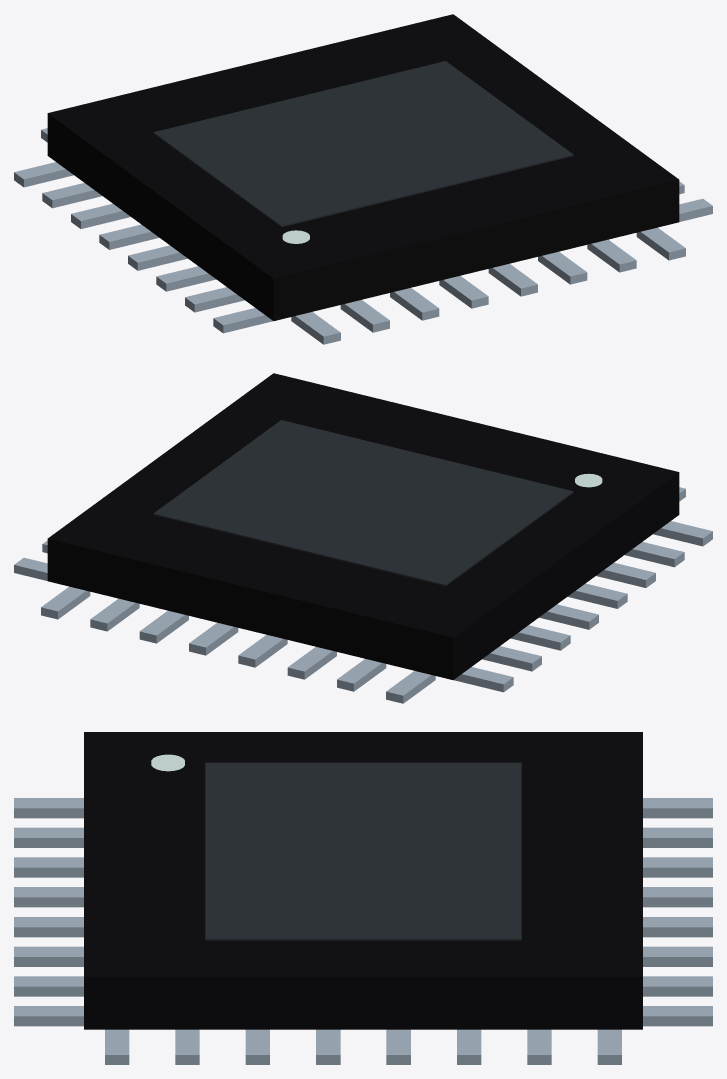
3 views of the same model, one above another, from view 1: azimuth 30°, elevation 25°; view 2: azimuth 150°, elevation 25°; view 3: azimuth 270°, elevation 25° (orthographic). The views are drawn at different scales.
Parts seen in each view (by area): view 1: U7_000_Molded_Encapsulation, U7_001_LaserMark_Panel, U7_022_QFP_Gullwing_Lead, U7_028_QFP_Gullwing_Lead, U7_030_QFP_Gullwing_Lead, U7_013_QFP_Gullwing_Lead, U7_018_QFP_Gullwing_Lead, U7_009_QFP_Gullwing_Lead, U7_017_QFP_Gullwing_Lead, U7_020_QFP_Gullwing_Lead, U7_024_QFP_Gullwing_Lead, U7_032_QFP_Gullwing_Lead (+7 smaller); view 2: U7_000_Molded_Encapsulation, U7_001_LaserMark_Panel, U7_006_QFP_Gullwing_Lead, U7_012_QFP_Gullwing_Lead, U7_014_QFP_Gullwing_Lead, U7_002_QFP_Gullwing_Lead, U7_007_QFP_Gullwing_Lead, U7_003_QFP_Gullwing_Lead, U7_004_QFP_Gullwing_Lead, U7_011_QFP_Gullwing_Lead, U7_008_QFP_Gullwing_Lead, U7_016_QFP_Gullwing_Lead (+7 smaller); view 3: U7_000_Molded_Encapsulation, U7_001_LaserMark_Panel, U7_002_QFP_Gullwing_Lead, U7_004_QFP_Gullwing_Lead, U7_006_QFP_Gullwing_Lead, U7_008_QFP_Gullwing_Lead, U7_010_QFP_Gullwing_Lead, U7_012_QFP_Gullwing_Lead, U7_014_QFP_Gullwing_Lead, U7_016_QFP_Gullwing_Lead, U7_018_QFP_Gullwing_Lead, U7_020_QFP_Gullwing_Lead (+14 smaller).
Part boxes in pixels (<box>): U7_000_Molded_Encapsulation: <box>47,14,679,320</box>; U7_001_LaserMark_Panel: <box>153,61,573,227</box>; U7_022_QFP_Gullwing_Lead: <box>390,288,439,320</box>; U7_028_QFP_Gullwing_Lead: <box>538,251,587,284</box>; U7_030_QFP_Gullwing_Lead: <box>587,239,636,272</box>; U7_013_QFP_Gullwing_Lead: <box>156,266,216,291</box>; U7_018_QFP_Gullwing_Lead: <box>291,312,340,344</box>; U7_009_QFP_Gullwing_Lead: <box>99,224,159,249</box>; U7_017_QFP_Gullwing_Lead: <box>213,308,273,333</box>; U7_020_QFP_Gullwing_Lead: <box>340,300,389,332</box>; U7_024_QFP_Gullwing_Lead: <box>439,275,488,308</box>; U7_032_QFP_Gullwing_Lead: <box>636,227,685,260</box>; U7_000_Molded_Encapsulation: <box>47,373,679,679</box>; U7_001_LaserMark_Panel: <box>153,420,573,586</box>; U7_006_QFP_Gullwing_Lead: <box>287,647,336,679</box>; U7_012_QFP_Gullwing_Lead: <box>139,610,188,643</box>; U7_014_QFP_Gullwing_Lead: <box>90,598,139,631</box>; U7_002_QFP_Gullwing_Lead: <box>386,671,435,703</box>; U7_007_QFP_Gullwing_Lead: <box>510,625,570,650</box>; U7_003_QFP_Gullwing_Lead: <box>453,667,513,692</box>; U7_004_QFP_Gullwing_Lead: <box>337,659,386,691</box>; U7_011_QFP_Gullwing_Lead: <box>567,583,627,608</box>; U7_008_QFP_Gullwing_Lead: <box>238,634,287,667</box>; U7_016_QFP_Gullwing_Lead: <box>41,586,90,619</box>; U7_000_Molded_Encapsulation: <box>84,732,642,1029</box>; U7_001_LaserMark_Panel: <box>205,762,521,940</box>; U7_002_QFP_Gullwing_Lead: <box>643,798,712,818</box>; U7_004_QFP_Gullwing_Lead: <box>643,827,712,847</box>; U7_006_QFP_Gullwing_Lead: <box>643,857,712,877</box>; U7_008_QFP_Gullwing_Lead: <box>643,887,712,907</box>; U7_010_QFP_Gullwing_Lead: <box>643,917,712,937</box>; U7_012_QFP_Gullwing_Lead: <box>643,946,712,966</box>; U7_014_QFP_Gullwing_Lead: <box>643,976,712,996</box>; U7_016_QFP_Gullwing_Lead: <box>643,1006,712,1026</box>; U7_018_QFP_Gullwing_Lead: <box>14,798,83,818</box>; U7_020_QFP_Gullwing_Lead: <box>14,827,83,847</box>.
Size of the model in its own units: 0.0114 by 0.00121 by 0.0114.
